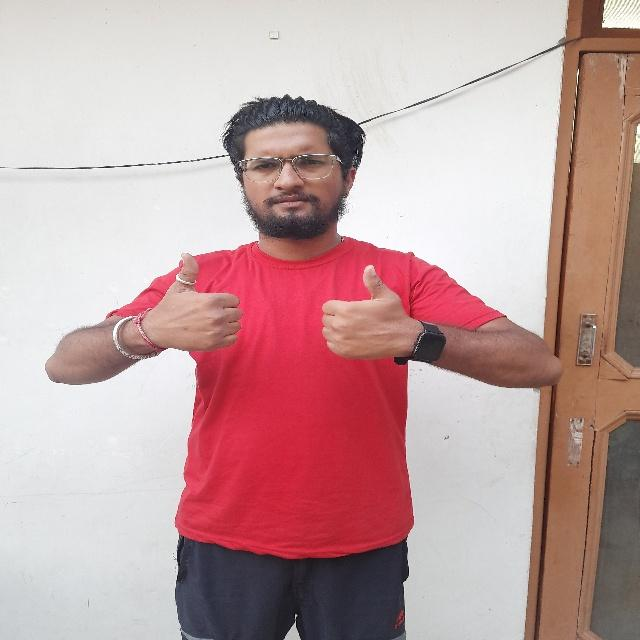Thumbs Up: (312, 254, 426, 371), (135, 245, 248, 361)
